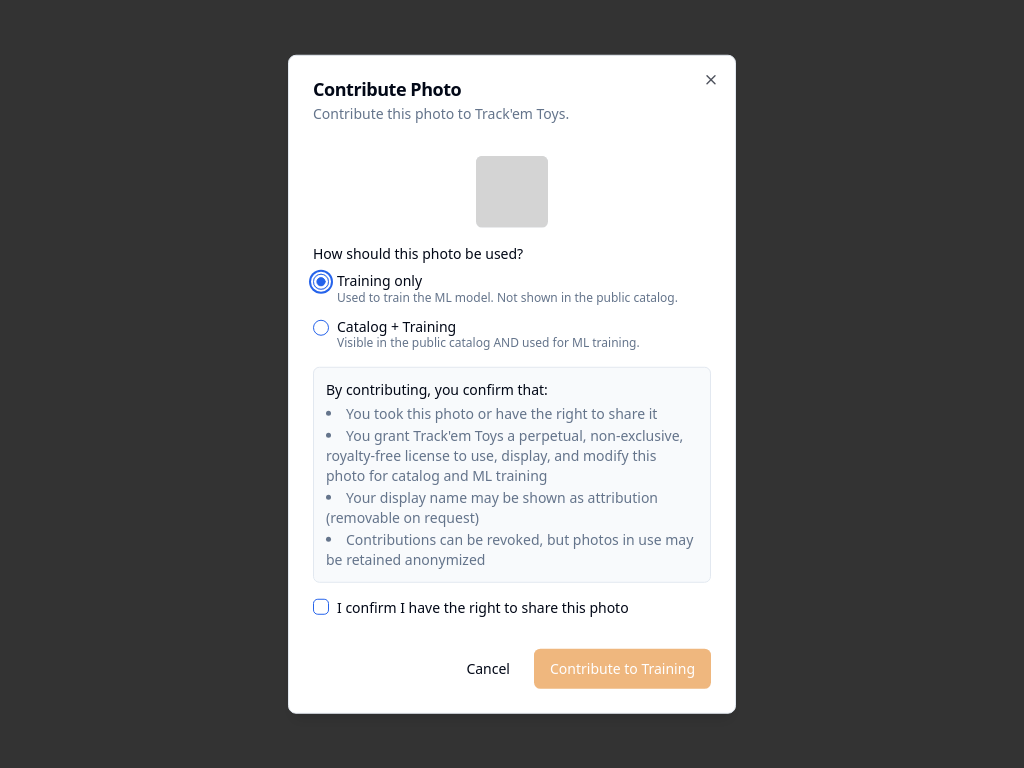
Scenario: ContributeDialog › requires consent checkbox regardless of intent — catalog_and_training path
The width and height of the screenshot is (1024, 768).
Step 1. Click the radio button named "Catalog + Training" next to "Catalog + Training" → (321, 327), box [313,319,329,335]
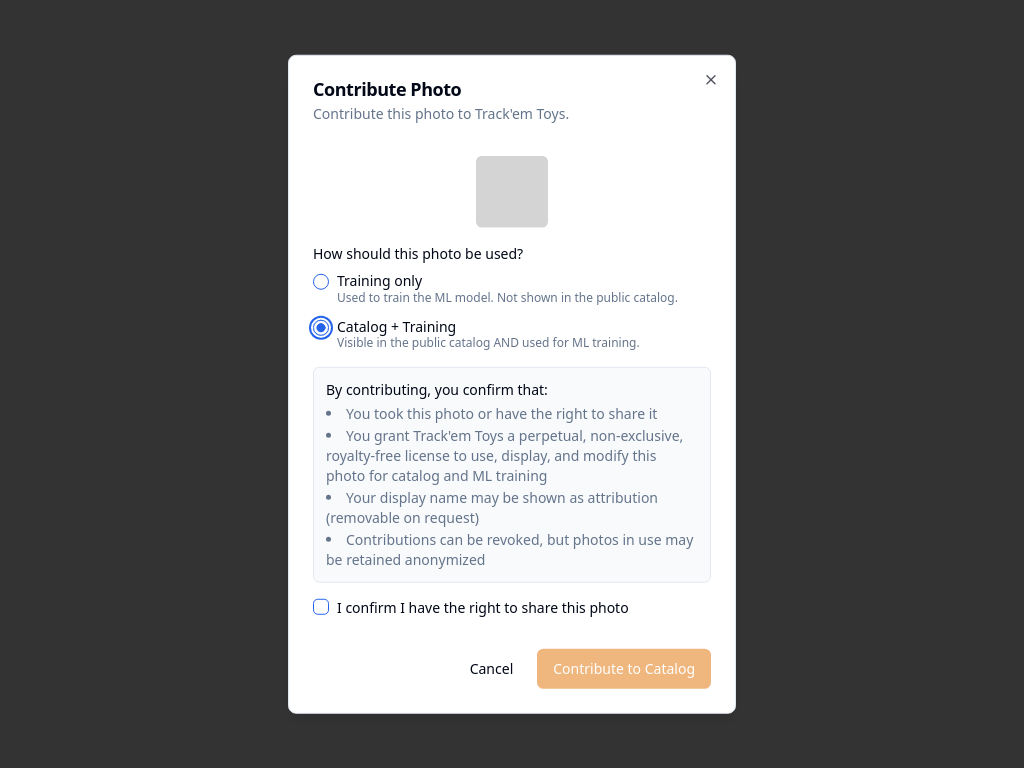
expect the button "Contribute to Catalog" is disabled: met, box [537,648,711,688]
Step 2. Click the checkbox named "I confirm I have the right to share" → (321, 607), box [313,599,329,615]
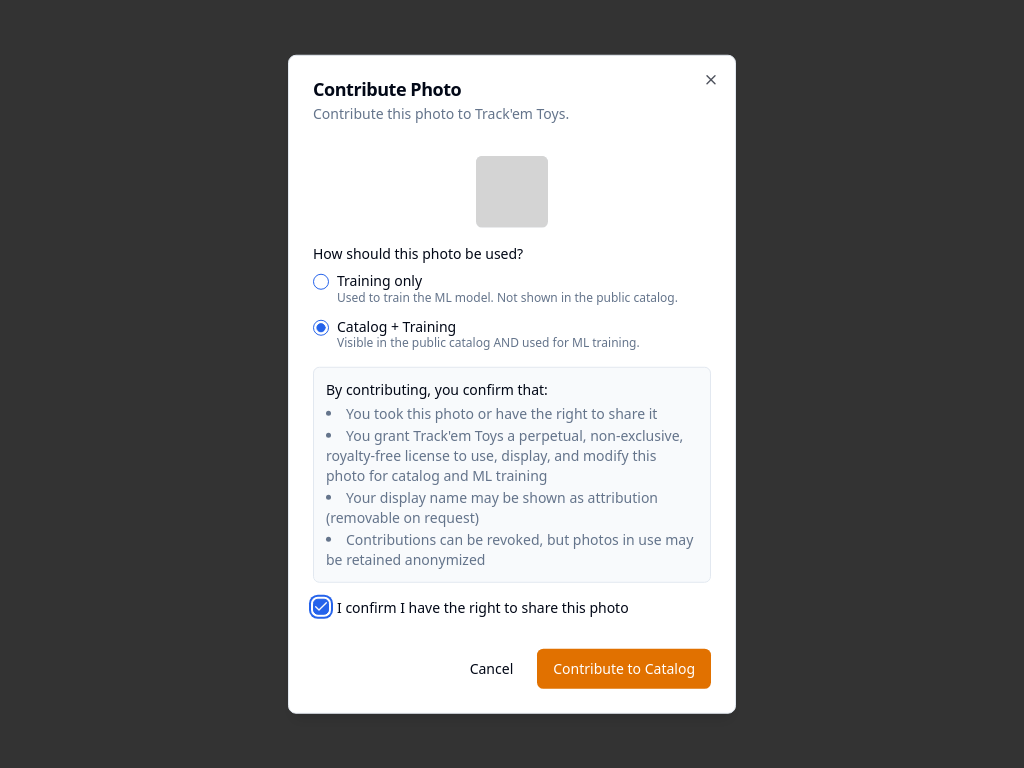
expect the button "Contribute to Catalog" is enabled: met, box [537,648,711,688]
